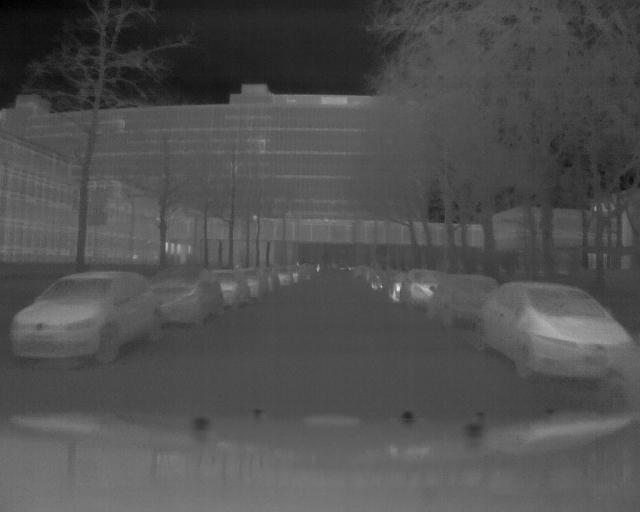car: (471, 282, 638, 385), (11, 271, 167, 368), (146, 264, 226, 329), (426, 277, 494, 326)
